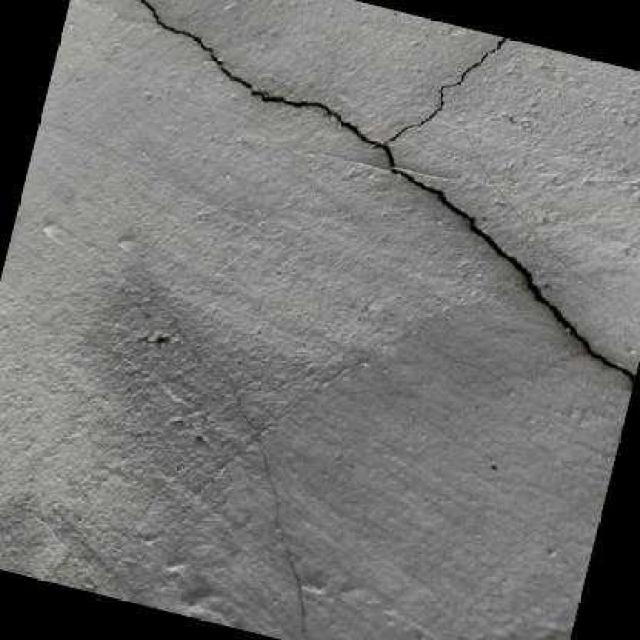D00: (140, 0, 636, 382)
